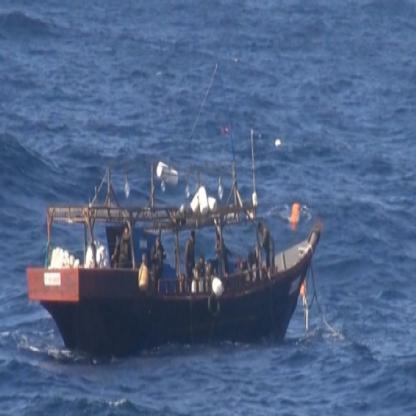fish-b: (26, 147, 328, 357)
